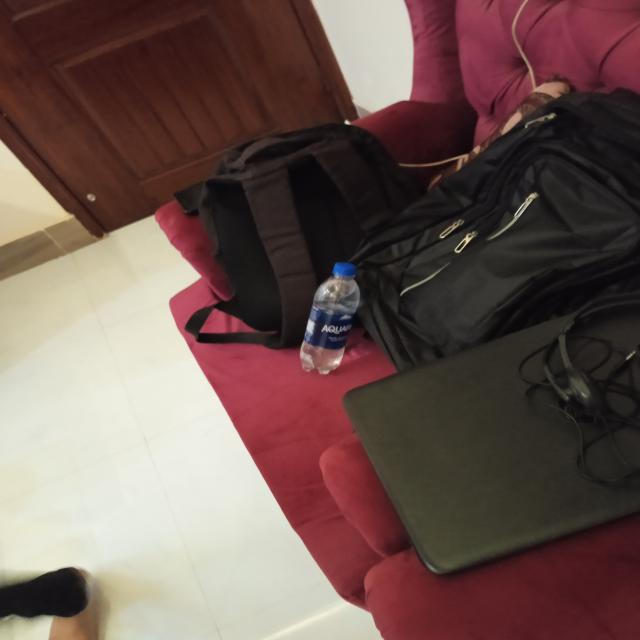Plastic: (302, 260, 362, 376)
